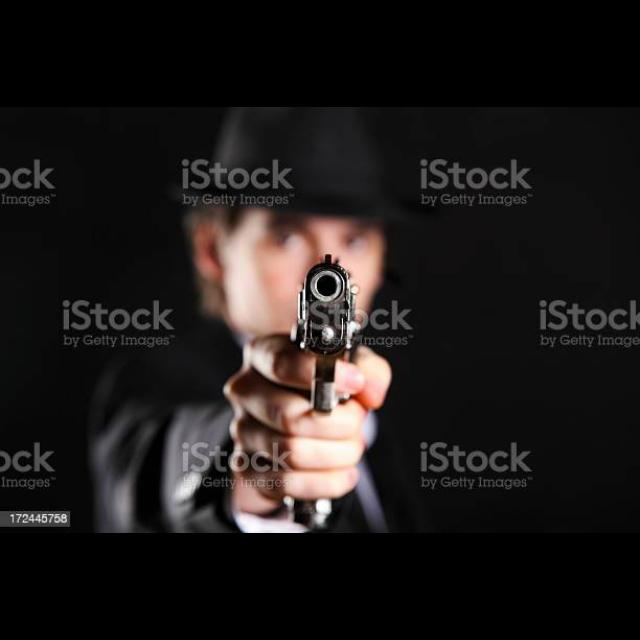handgun: (288, 250, 367, 418)
